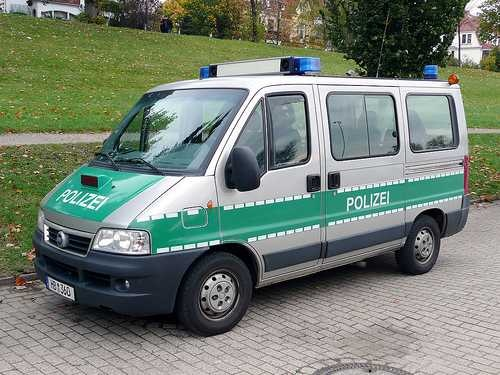Police Car: (46, 55, 477, 329)
